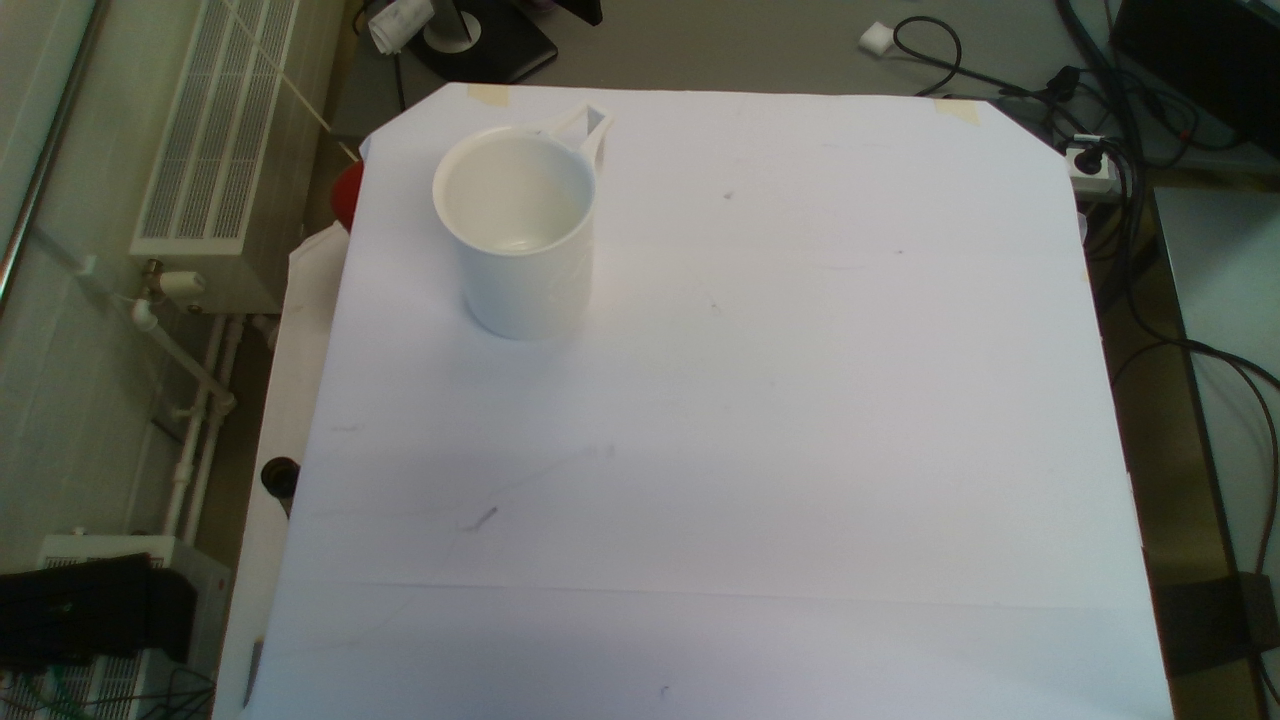cup: (428, 103, 617, 341)
